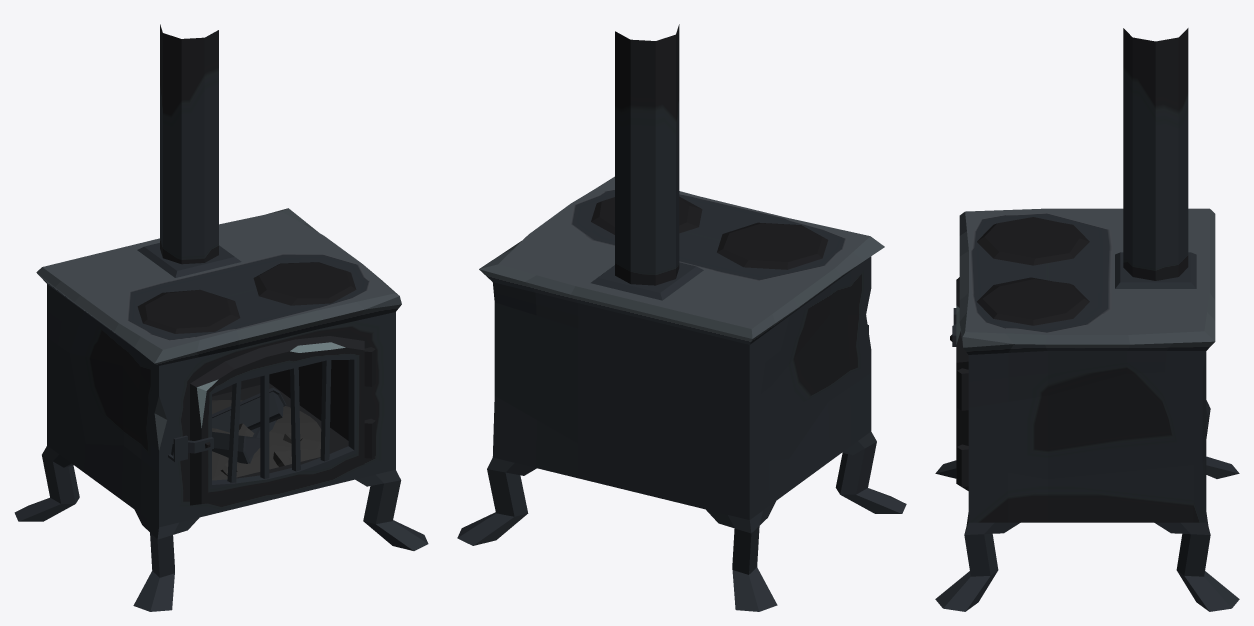
File: SM_Stove.gltf
3 renders of one model, left to right at view 1: azimuth 30°, elevation 25°; view 2: azimuth 150°, elevation 25°; view 3: azimuth 270°, elevation 25°, orthographic. The views are drawn at different scales.
Visible parts, largest first — view 1: SM_Stove, SM_Stove_Door; view 2: SM_Stove; view 3: SM_Stove, SM_Stove_Door.
Part boxes in pixels (bbox=[...]): SM_Stove: bbox=[14, 24, 428, 611]; SM_Stove_Door: bbox=[190, 336, 364, 505]; SM_Stove: bbox=[457, 24, 906, 611]; SM_Stove: bbox=[935, 28, 1239, 611]; SM_Stove_Door: bbox=[956, 277, 968, 490].
Size of the model in its own units: 1.35 by 2.12 by 1.15.
Materials: 1 (1 with a texture image).
